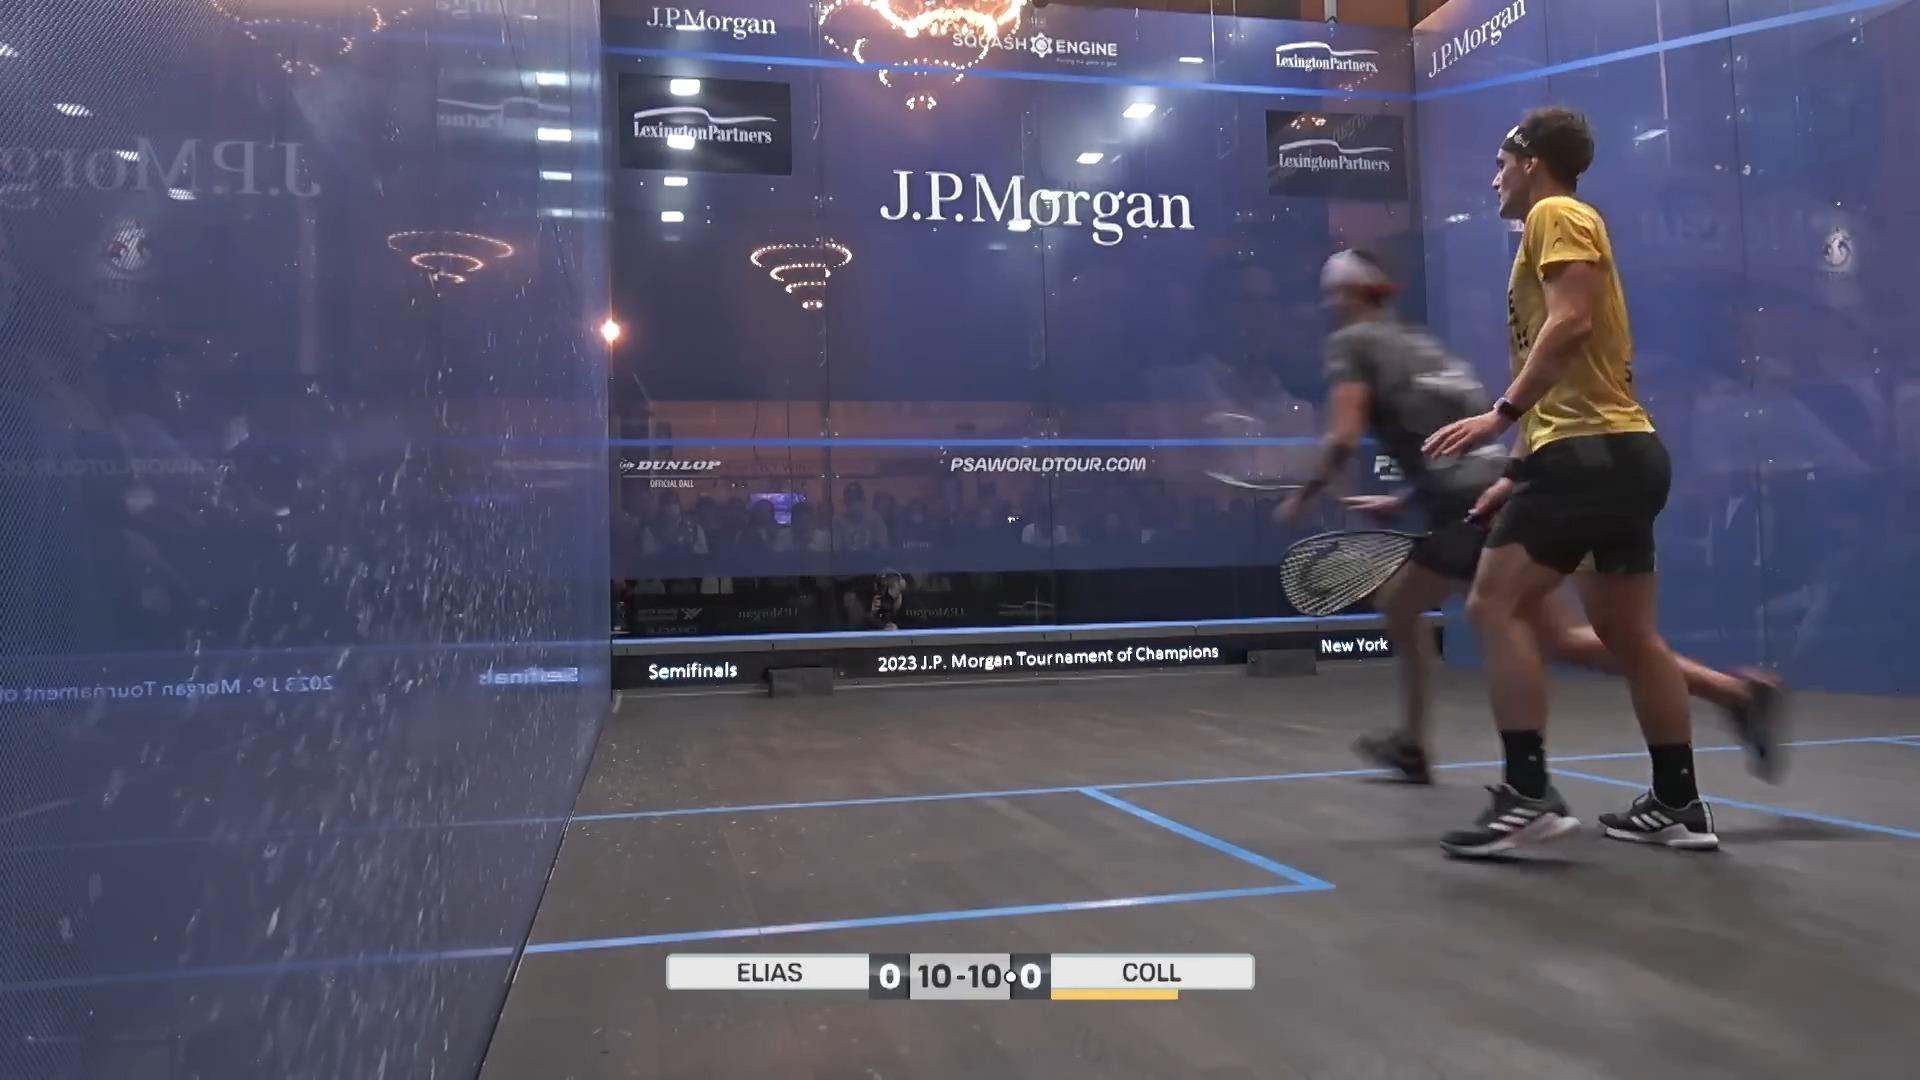Racket: (1276, 525, 1480, 632), (1228, 405, 1424, 509)
